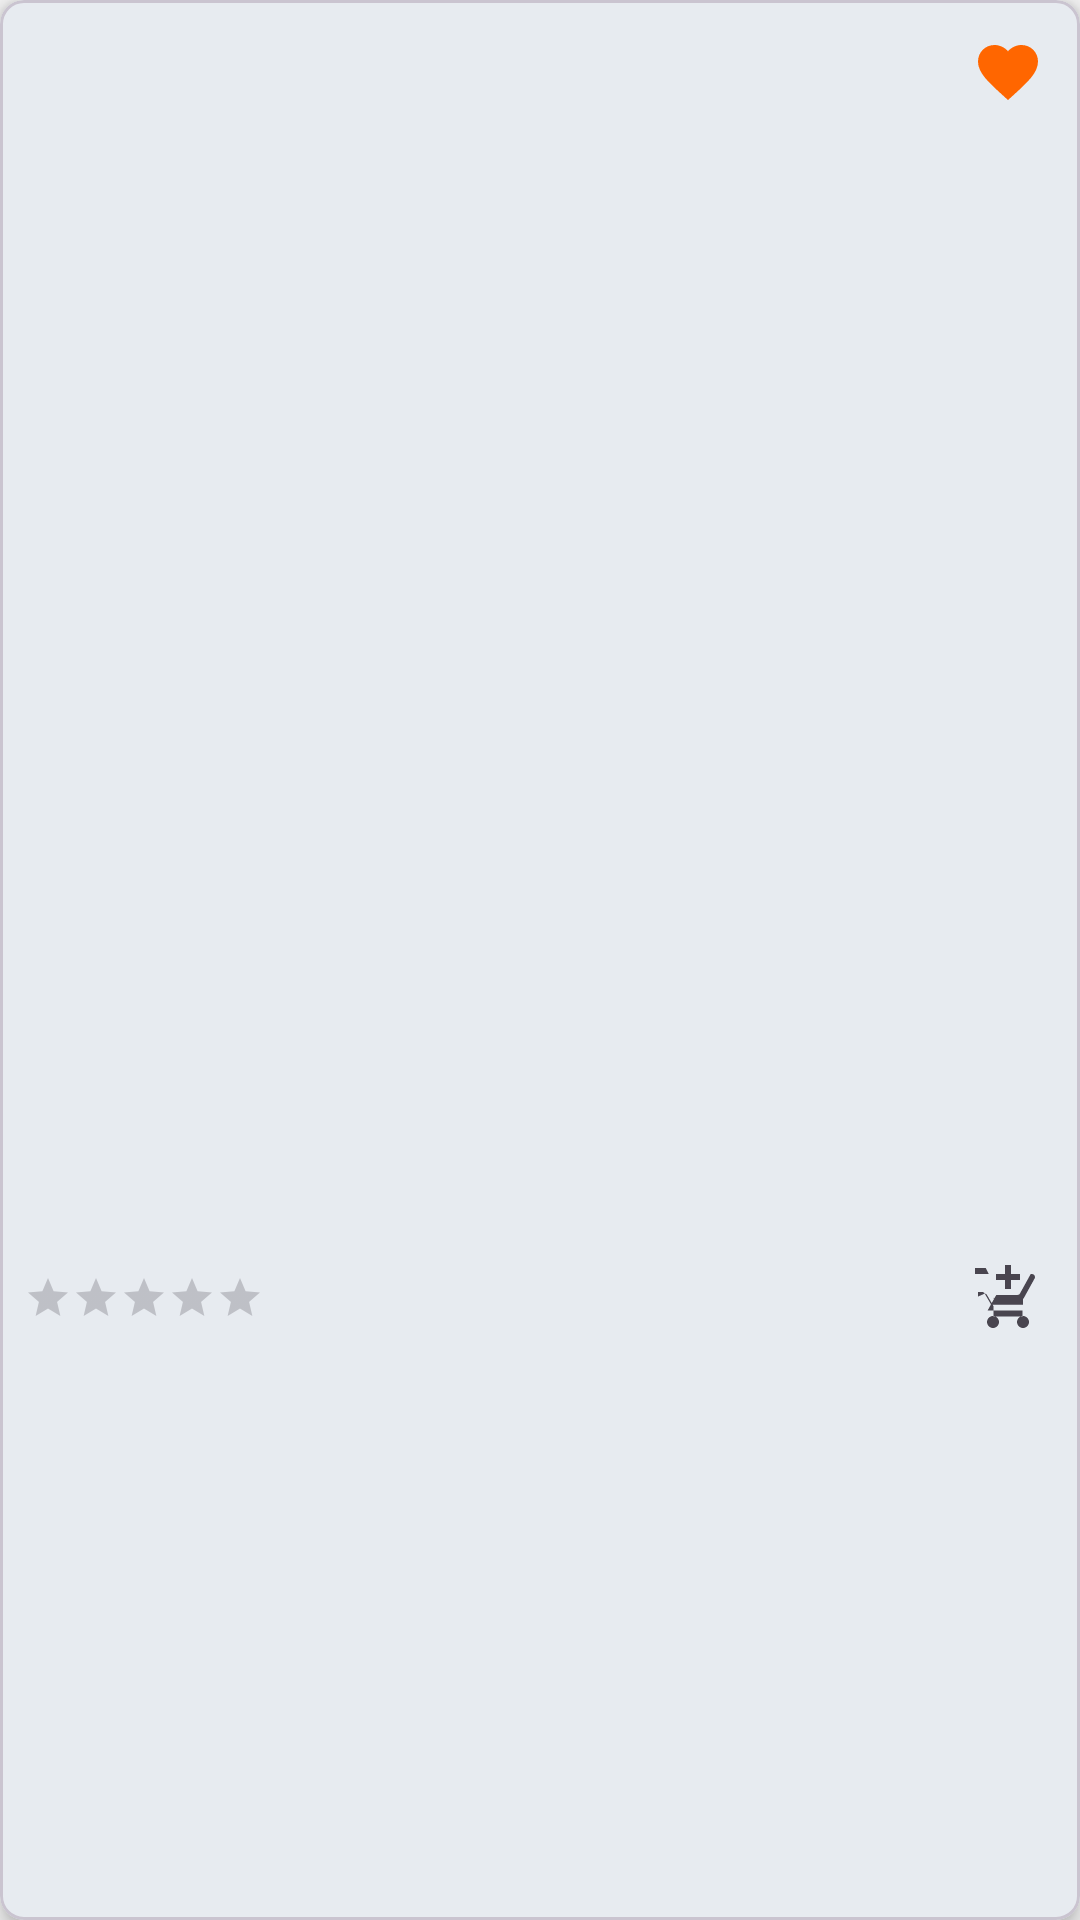

Screen size 1080px×1920px. Icon name, then its box in pixels as BBox(x1, y1, x2, y2):
add shopping cart: BBox(975, 1265, 1035, 1328)
favorite: BBox(978, 45, 1038, 100)
